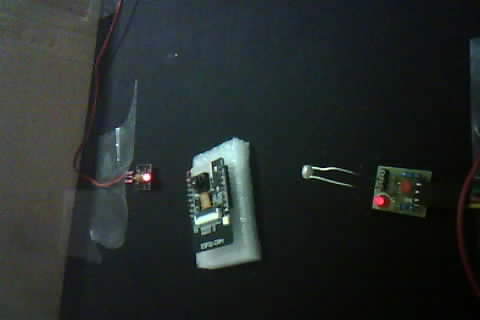esp32: (182, 139, 267, 266)
